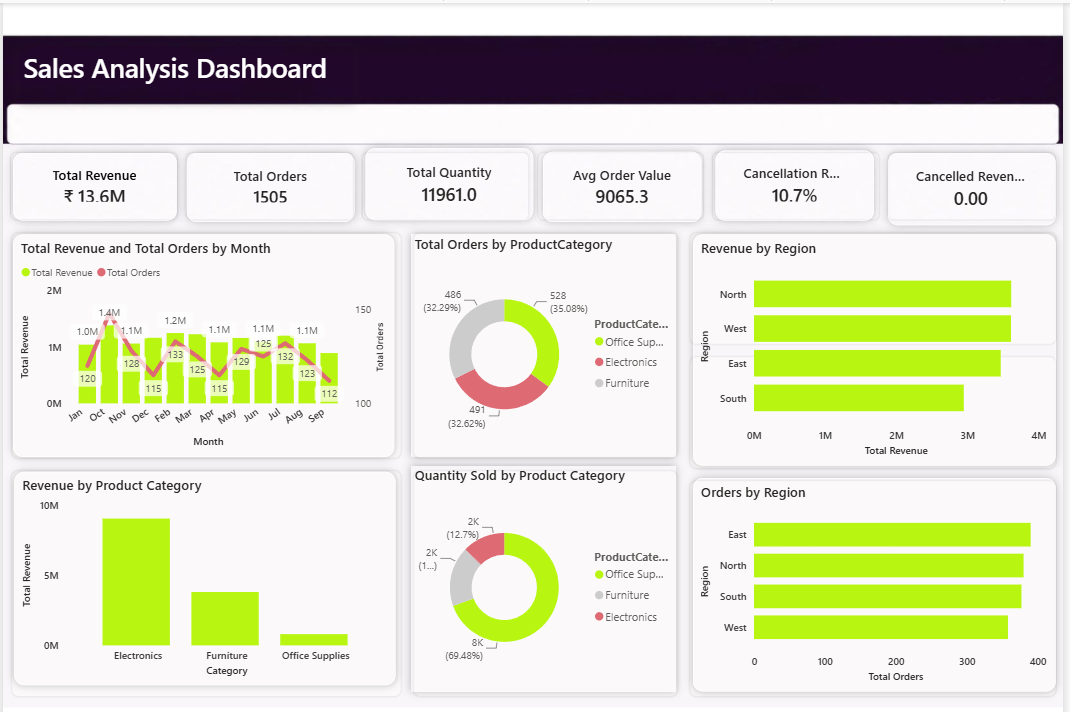

The page's visual inventory and layout, read from the dashboard file:
{"tool":"powerbi","page":{"name":"Overview","canvas":[1280,900],"ordinal":0},"visuals":[{"type":"cardVisual","fields":{"Data":["Measures (2).Total Revenue"]},"box":[12.1,181,197.6,81.4],"z":0},{"type":"cardVisual","fields":{"Data":["Measures (2).Total Orders"]},"box":[221.7,181,202.1,82.9],"z":1000},{"type":"cardVisual","fields":{"Data":["Measures (2).Total Quantity"]},"box":[437.3,174.9,202.1,87.5],"z":2000},{"type":"cardVisual","fields":{"Data":["Measures (2).Average Order Value"]},"box":[651.5,179.5,191.5,84.5],"z":3000},{"type":"textbox","box":[19.6,51.3,404.2,69.4],"z":4000},{"type":"clusteredBarChart","title":" Revenue by Region","fields":{"Category":["sales_data.Region"],"Y":["Measures (2).Total Revenue"]},"box":[832.4,279,437.3,279],"z":5000},{"type":"columnChart","title":"Revenue by Product Category","fields":{"Category":["sales_data.ProductCategory"],"Y":["Measures (2).Total Revenue"]},"box":[13.6,565.5,460,257.9],"z":6000},{"type":"cardVisual","fields":{"Data":["Measures (2).Cancellation Rate"]},"box":[859.6,177.9,191.5,84.5],"z":7000},{"type":"lineStackedColumnComboChart","fields":{"Category":["sales_data.Month"],"Y":["Measures (2).Total Revenue"],"Y2":["Measures (2).Total Orders"]},"box":[12.1,279,460,268.4],"z":8000},{"type":"clusteredBarChart","title":"Orders by Region","fields":{"Y":["Measures (2).Total Orders"],"Category":["sales_data.Region"]},"box":[832.4,573.1,437.3,257.9],"z":9000},{"type":"donutChart","title":"Quantity Sold by Product Category","fields":{"Category":["sales_data.ProductCategory"],"Y":["Measures (2).Total Quantity"]},"box":[491.6,558,319.7,273],"z":10000},{"type":"donutChart","fields":{"Category":["sales_data.ProductCategory"],"Y":["Measures (2).Total Orders"]},"box":[491.6,279,319.7,268.4],"z":11000},{"type":"cardVisual","fields":{"Data":["Measures (2).Cancelled Revenue"]},"box":[1067.7,181,202.1,87.5],"z":11001}]}

Visuals, with their boxes on the page's 1280x900 design canvas (x1, y1, x2, y2). These are canvas units, not pixel positions in the 1070x712 screenshot, which may show the page scaled, cropped or inside an application window:
cardVisual - Measures (2).Total Revenue: pyautogui.locateOnScreen(12, 181, 210, 262)
cardVisual - Measures (2).Total Orders: pyautogui.locateOnScreen(222, 181, 424, 264)
cardVisual - Measures (2).Total Quantity: pyautogui.locateOnScreen(437, 175, 639, 262)
cardVisual - Measures (2).Average Order Value: pyautogui.locateOnScreen(652, 180, 843, 264)
textbox: pyautogui.locateOnScreen(20, 51, 424, 121)
" Revenue by Region" clusteredBarChart: pyautogui.locateOnScreen(832, 279, 1270, 558)
"Revenue by Product Category" columnChart: pyautogui.locateOnScreen(14, 566, 474, 823)
cardVisual - Measures (2).Cancellation Rate: pyautogui.locateOnScreen(860, 178, 1051, 262)
lineStackedColumnComboChart - sales_data.Month x Measures (2).Total Revenue: pyautogui.locateOnScreen(12, 279, 472, 547)
"Orders by Region" clusteredBarChart: pyautogui.locateOnScreen(832, 573, 1270, 831)
"Quantity Sold by Product Category" donutChart: pyautogui.locateOnScreen(492, 558, 811, 831)
donutChart - sales_data.ProductCategory x Measures (2).Total Orders: pyautogui.locateOnScreen(492, 279, 811, 547)
cardVisual - Measures (2).Cancelled Revenue: pyautogui.locateOnScreen(1068, 181, 1270, 268)
